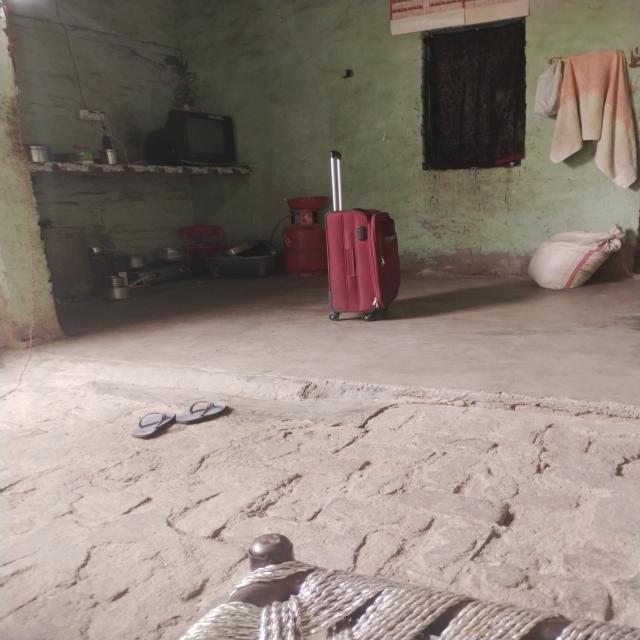suitcaserotation: (319, 148, 404, 324)
